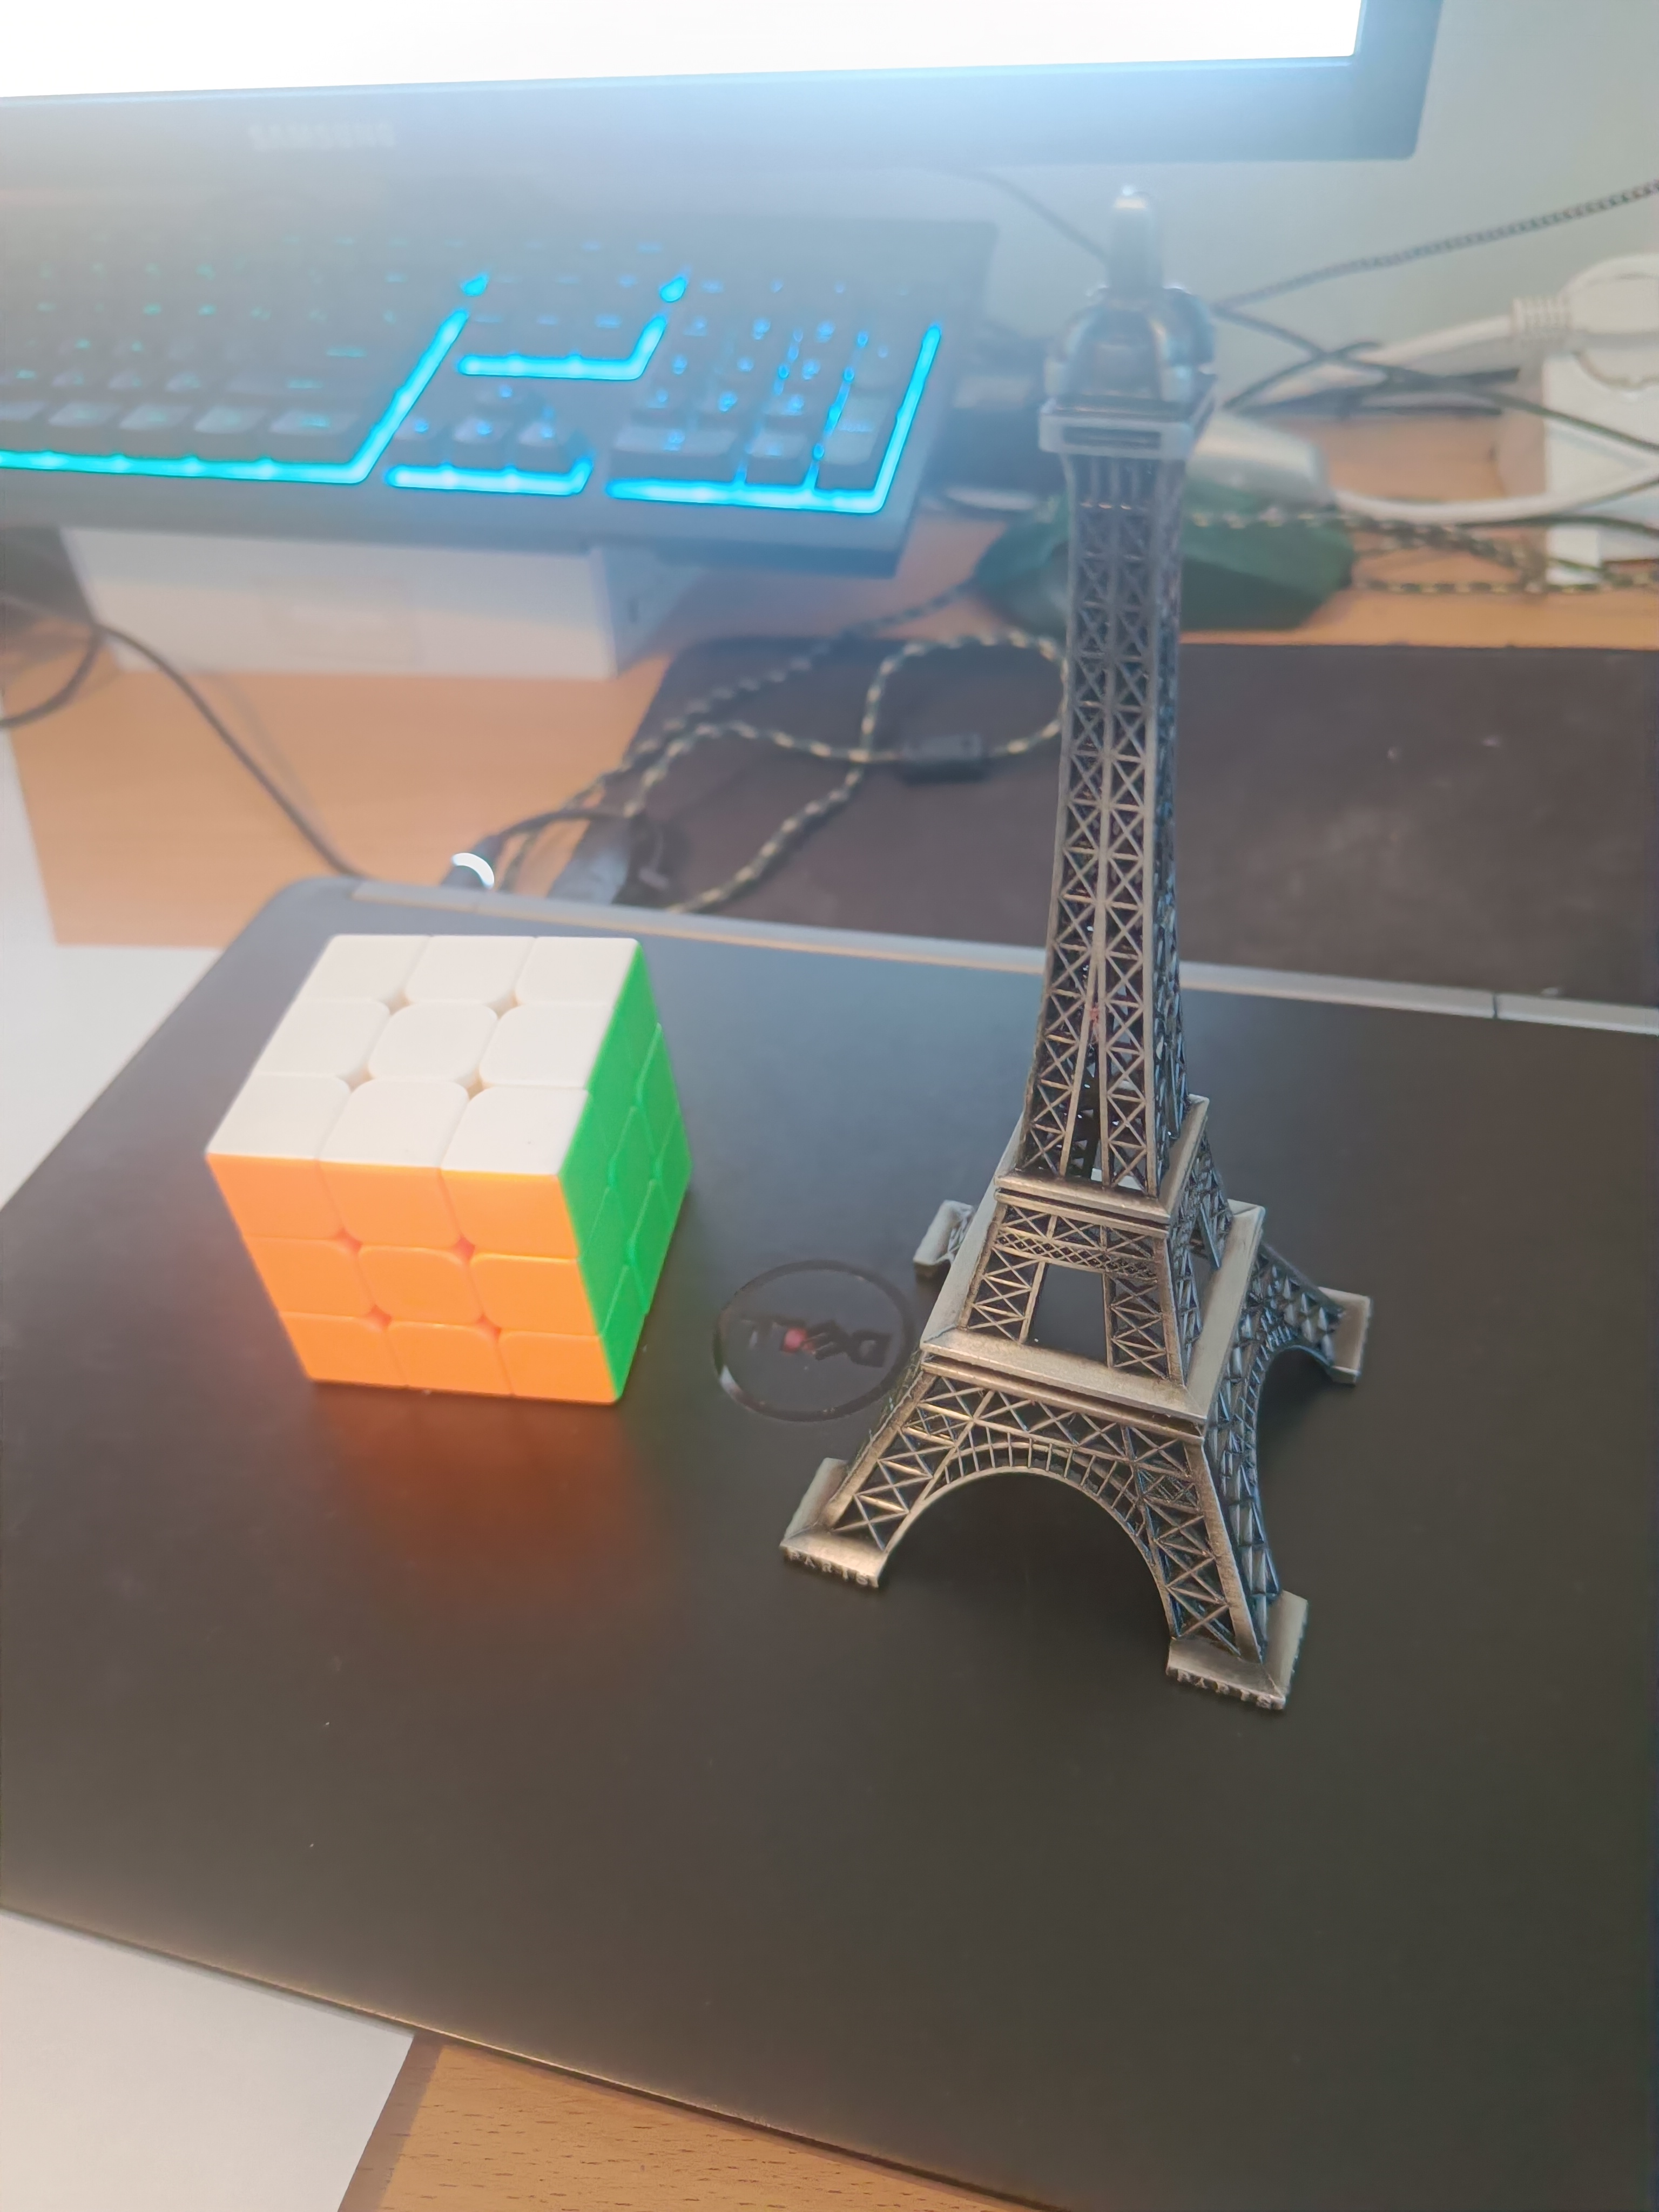Eiffel Tower: (765, 172, 1384, 1717)
Rubiks Cube: (202, 921, 713, 1421)
